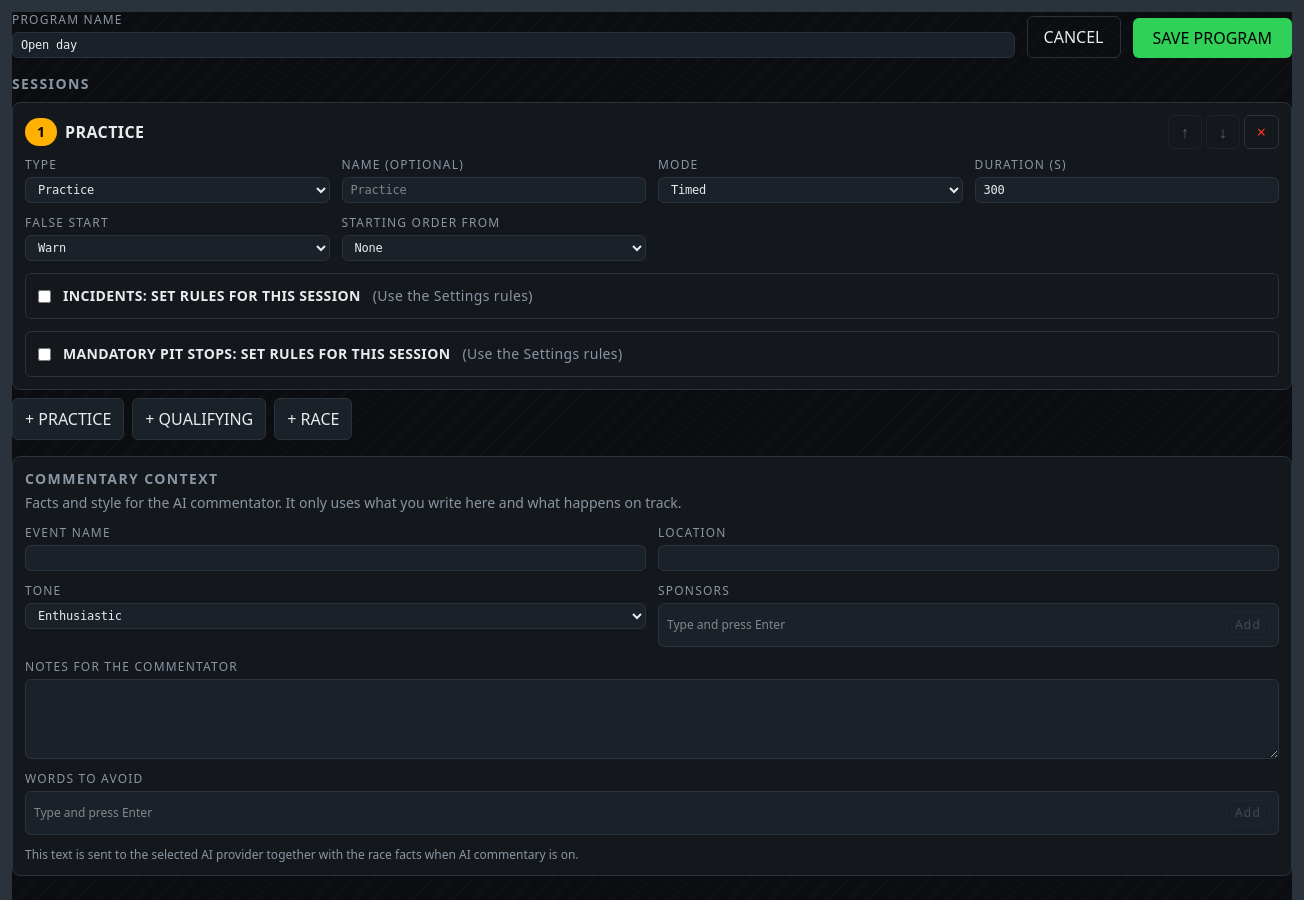
Test: ProgramEditor › adds, reorders and removes sessions, forcing qualifying to timed
The width and height of the screenshot is (1304, 900).
Click the button with test id "add-qualifying": (199, 419) [132,398,266,440]
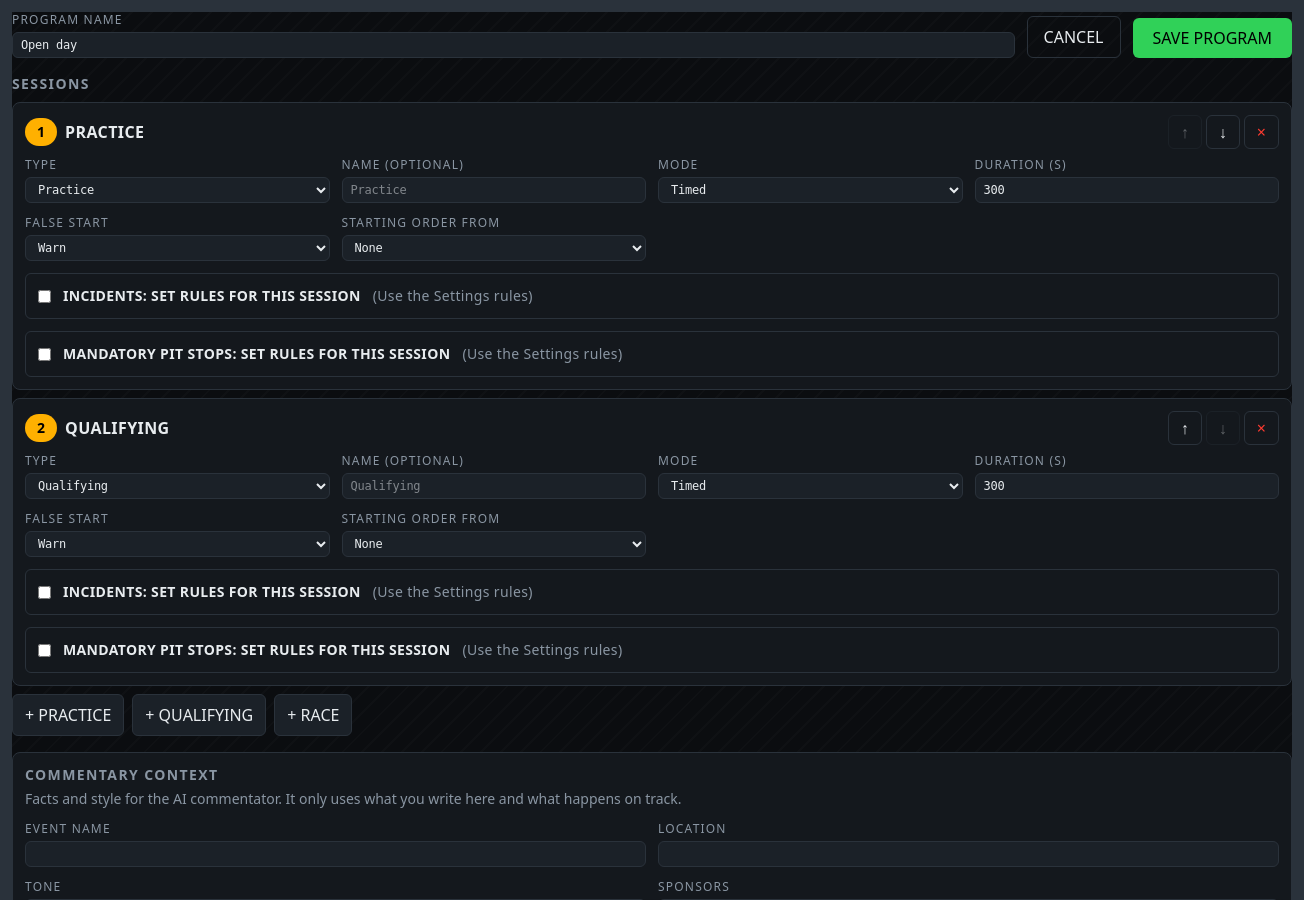
Click the button with test id "add-race": (313, 715) [274,694,352,736]
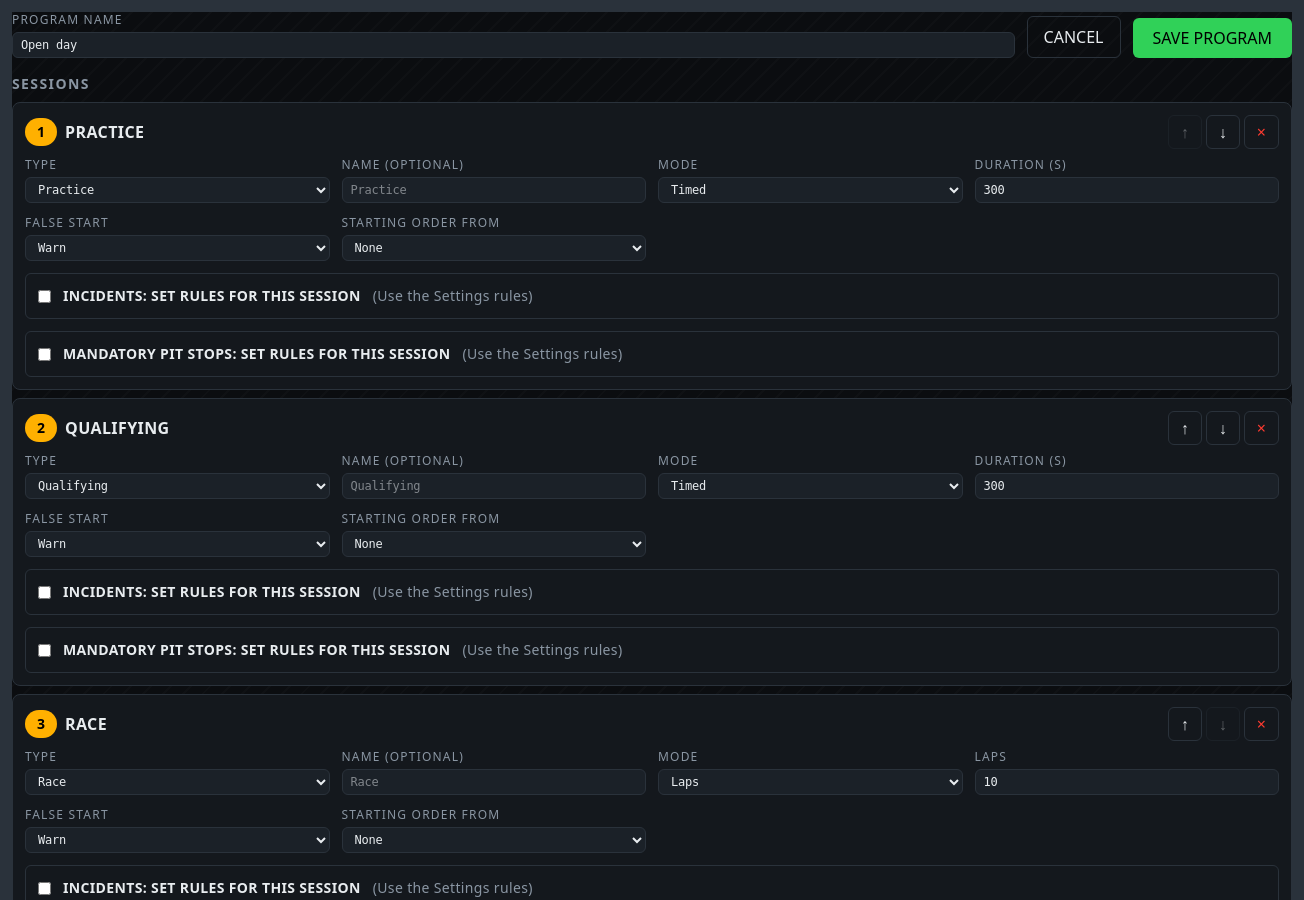
Expected: the 2nd dropdown showing "Timed" is disabled, [658,473,962,499]
Note: move the race up: order becomes practice, race, qualifying
Click the button named "Move session up": (1185, 724) [1168,707,1202,741]
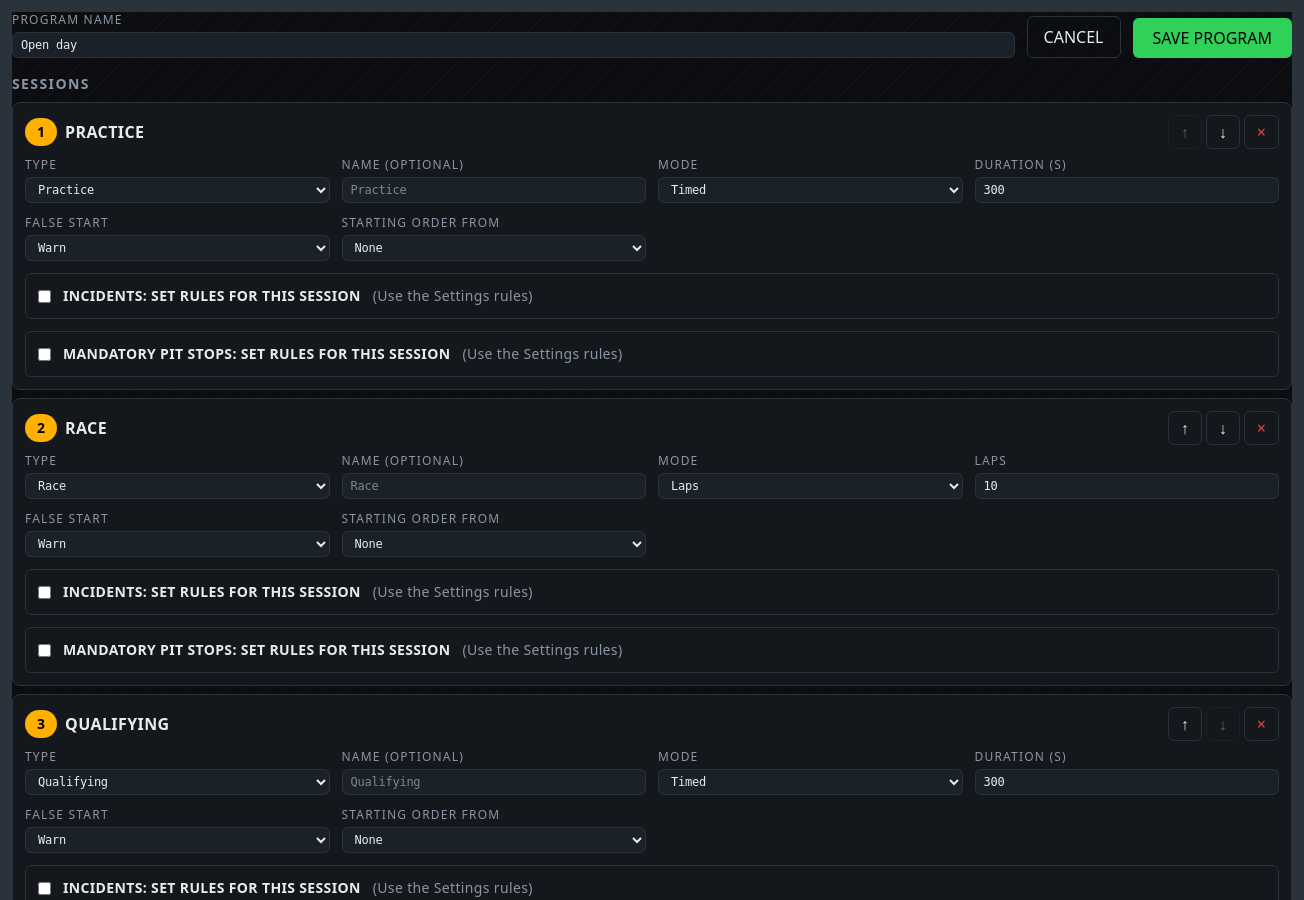
Expected: the 2nd dropdown showing "Race" is shown, [25,473,330,499]
Click the button named "Remove session": (1261, 132) [1244,115,1279,149]
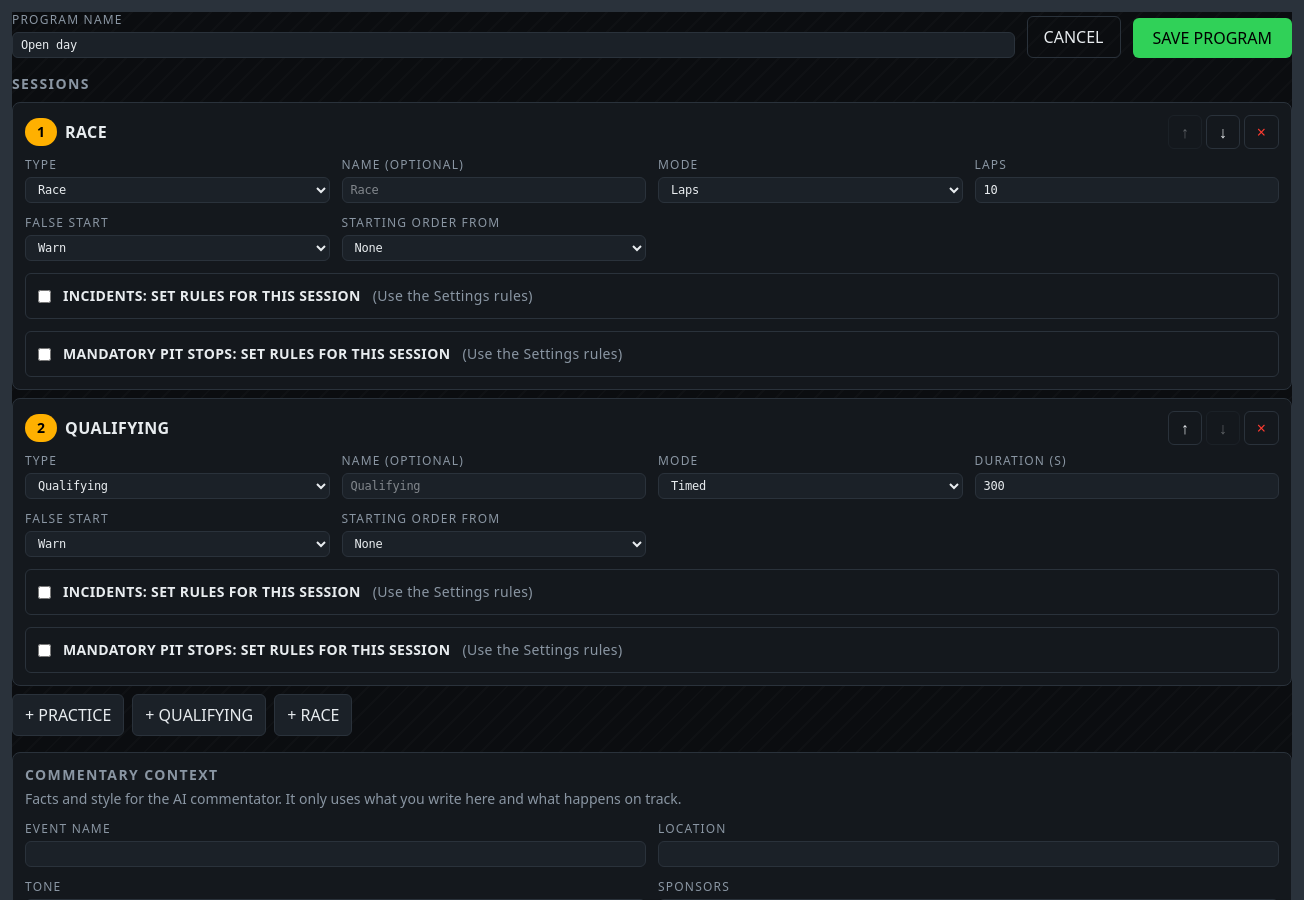
Expected: the number of list items with test id "session-card" is 2, [12,102,1292,390]; [12,398,1292,686]
